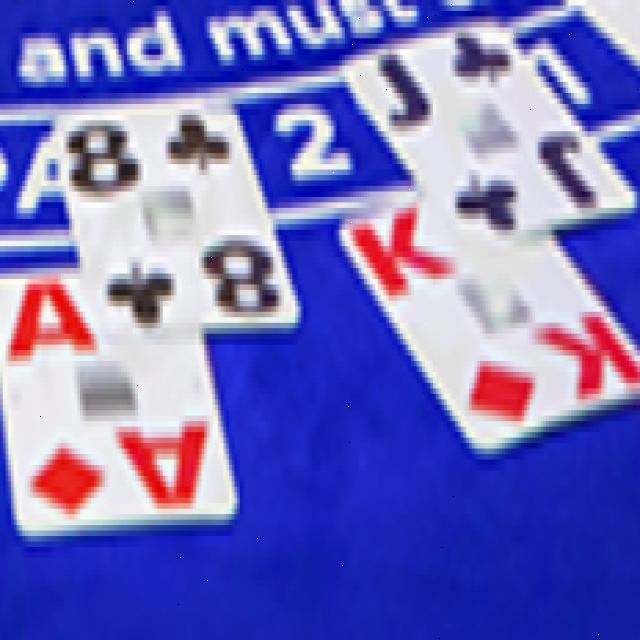Card-8: (55, 96, 299, 350)
Card-A: (0, 275, 236, 536)
Card-J: (342, 12, 634, 264)
Card-K: (338, 192, 639, 452)
